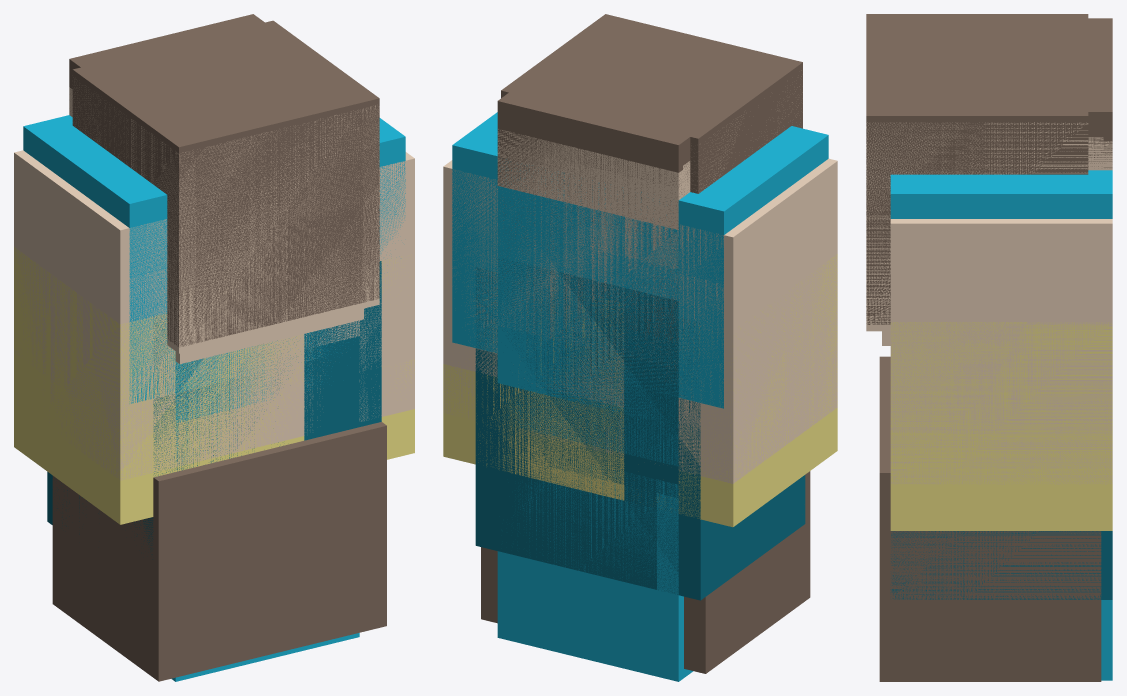
3 renders of one model, left to right at view 1: azimuth 30°, elevation 25°; view 2: azimuth 150°, elevation 25°; view 3: azimuth 270°, elevation 25°, orthographic. The views are drawn at different scales.
Parts seen in each view (by area): view 1: LeftBrow, LeftFoot, LeftHand, RightBrow, LeftUpperArm, LeftForeArm, LeftEyelid, LeftShoulder, RightFoot, Hair, RightUpperArm, Hips (+12 smaller); view 2: Hair, Chest, Hips, LeftUpperArm, LOD0_High, LeftForeArm, RightLeg, Spine, LeftShoulder, RightHand, LeftBrow, LeftLeg (+11 smaller); view 3: RightUpperArm, RightHand, RightFoot, RightForeArm, LeftBrow, RightBrow, Hair, RightShoulder, RightEyelid, RightLeg, LOD0_High, LeftFoot (+1 smaller).
Boxes of the visible parts, box(x1,y1,x2,y2) form: LeftBrow: box(72, 29, 362, 347); LeftFoot: box(52, 436, 342, 681); LeftHand: box(14, 247, 304, 524); RightBrow: box(90, 20, 379, 342); LeftUpperArm: box(14, 150, 303, 430); LeftForeArm: box(14, 203, 304, 480); LeftEyelid: box(73, 77, 362, 353); LeftShoulder: box(23, 115, 175, 403); RightFoot: box(203, 422, 386, 636); Hair: box(69, 14, 359, 136); RightUpperArm: box(308, 152, 414, 370); Hips: box(175, 320, 359, 471); Hair: box(497, 25, 782, 340); Chest: box(497, 186, 678, 423); Hips: box(497, 258, 678, 497); LeftUpperArm: box(552, 158, 837, 434); LOD0_High: box(497, 457, 693, 681); LeftForeArm: box(653, 212, 837, 483); RightLeg: box(475, 348, 656, 589); Spine: box(497, 226, 678, 465); LeftShoulder: box(592, 126, 828, 408); RightHand: box(443, 262, 624, 500); LeftBrow: box(520, 18, 802, 193); LeftLeg: box(519, 386, 805, 600); RightUpperArm: box(890, 219, 1112, 432); RightHand: box(890, 322, 1112, 530); RightFoot: box(879, 379, 1101, 681); RightForeArm: box(890, 276, 1112, 484); LeftBrow: box(866, 14, 1088, 107); RightBrow: box(866, 22, 1088, 324); Hair: box(890, 18, 1112, 167); RightShoulder: box(890, 170, 1112, 218); RightEyelid: box(866, 122, 1088, 331); RightLeg: box(890, 531, 1112, 599); LOD0_High: box(1101, 600, 1112, 680); LeftFoot: box(879, 356, 890, 449).
Size of the model in its own units: 1.6 by 2.83 by 1.11.
